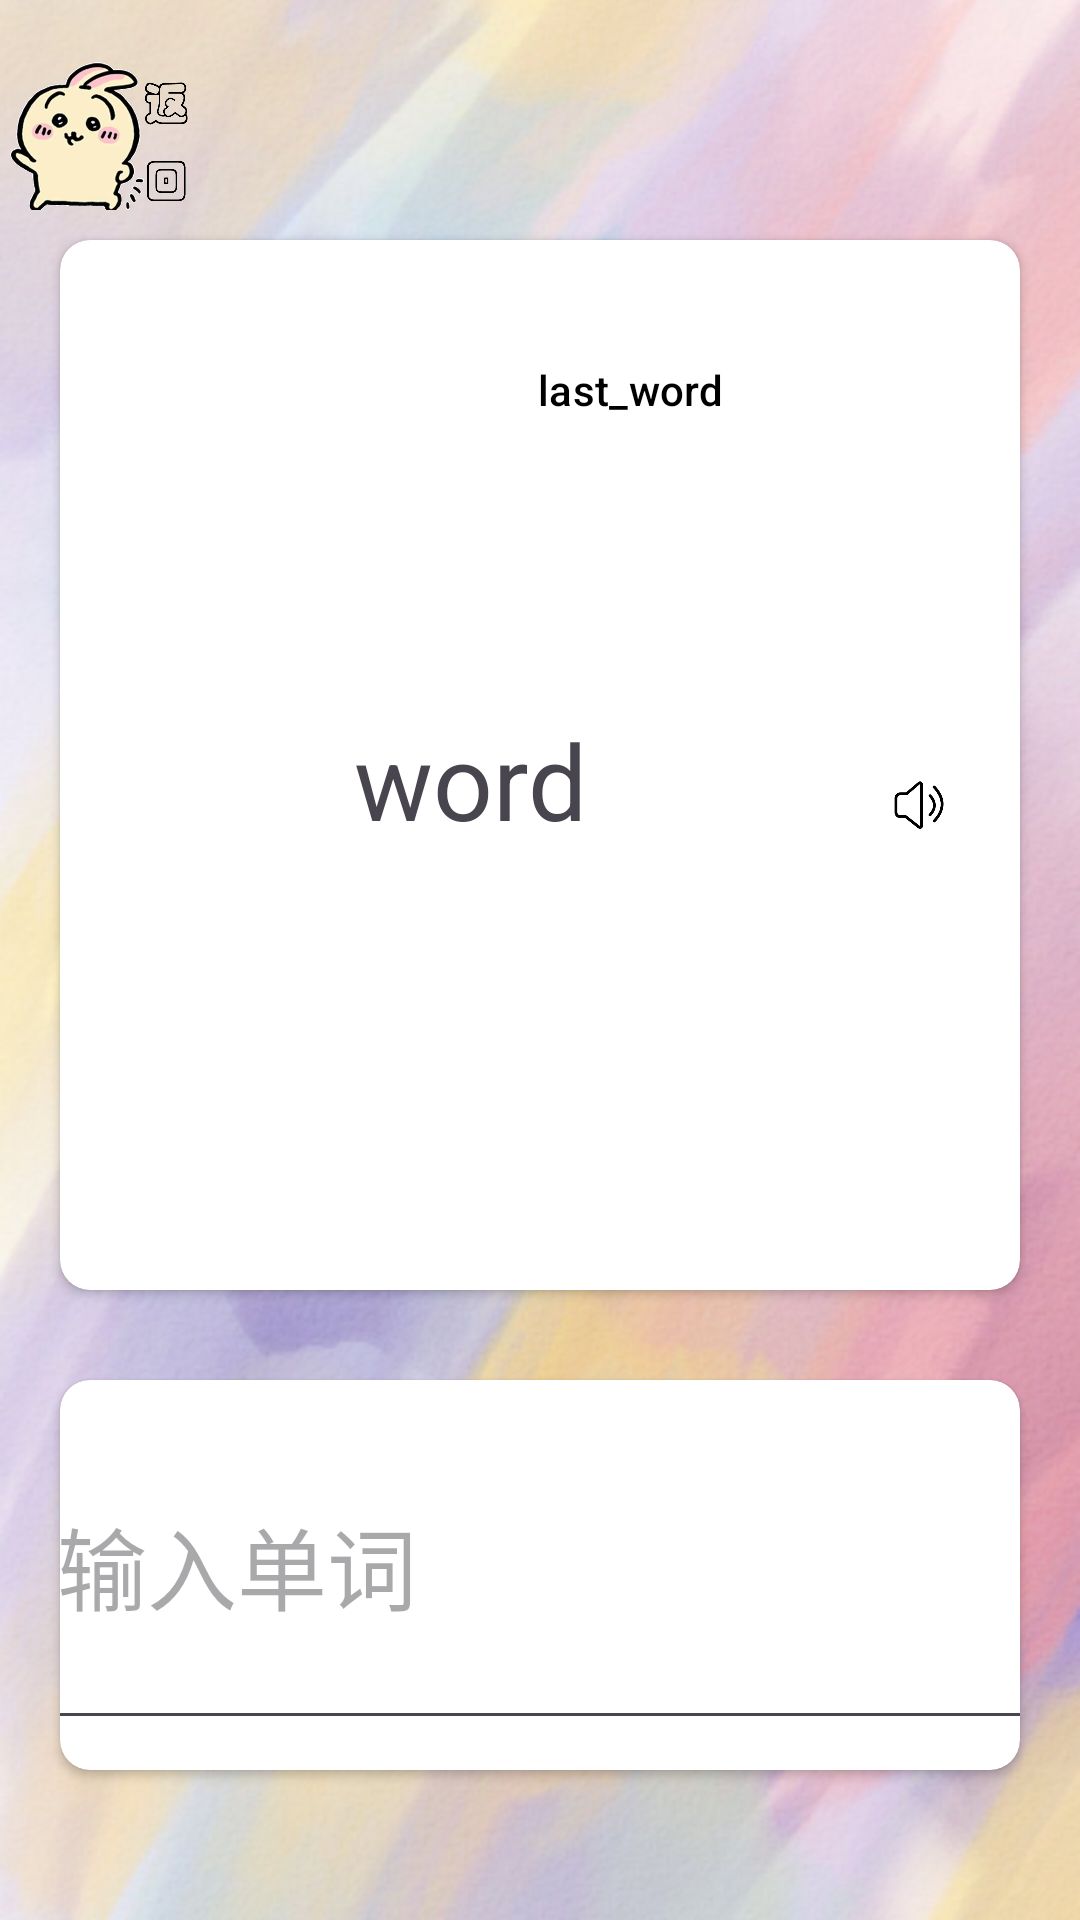

Named icons in this screenshot (1080 × 1920) and their bounding boxes, (x1, y1, x2, y2):
noice: (894, 781, 944, 829)
